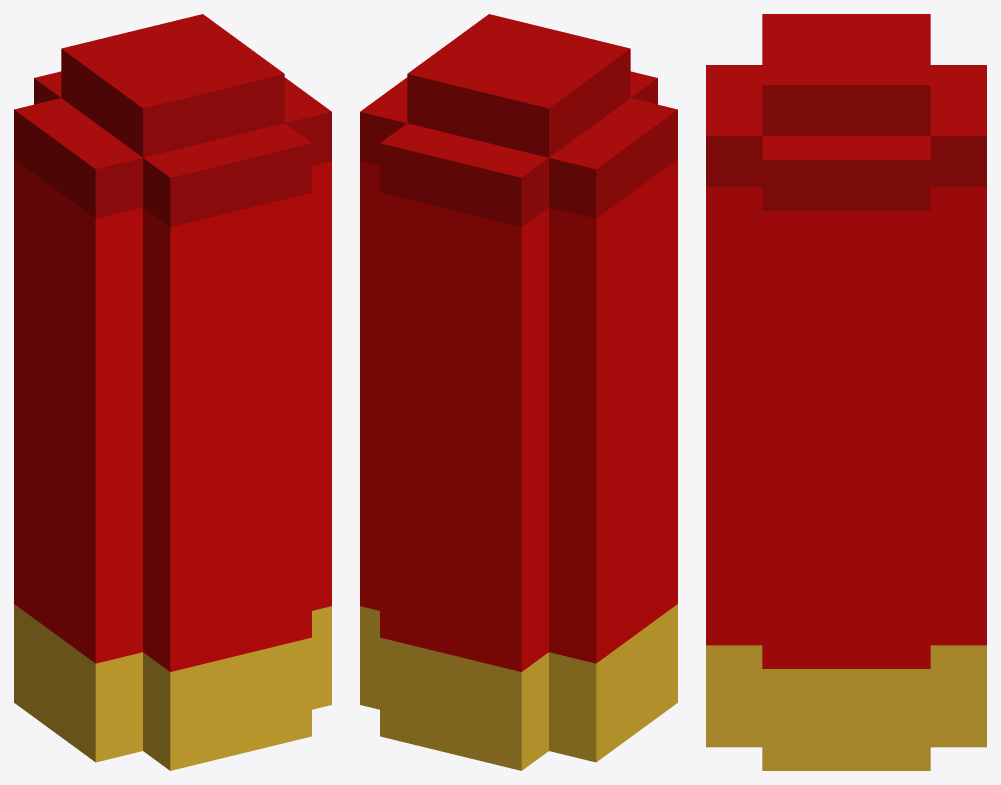
Rendered from Shot gun bullet.obj.
3 renders of one model, left to right at view 1: azimuth 30°, elevation 25°; view 2: azimuth 150°, elevation 25°; view 3: azimuth 270°, elevation 25°, orthographic. The views are drawn at different scales.
Bounding box in the file's own units: 0.5 × 1.3 × 0.5.
Materials: 1 (1 with a texture image).
